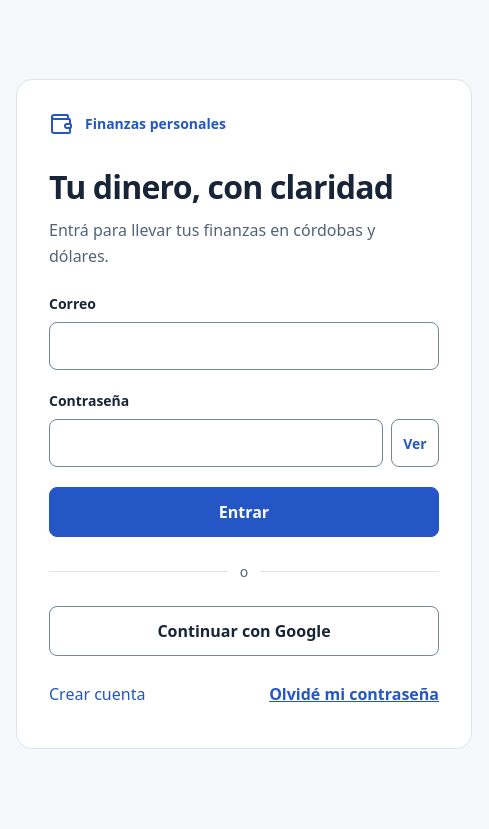
Test: explains a cancelled Google sign-in and keeps access available
Click the button "Continuar con Google": (244, 631) [49,606,439,656]
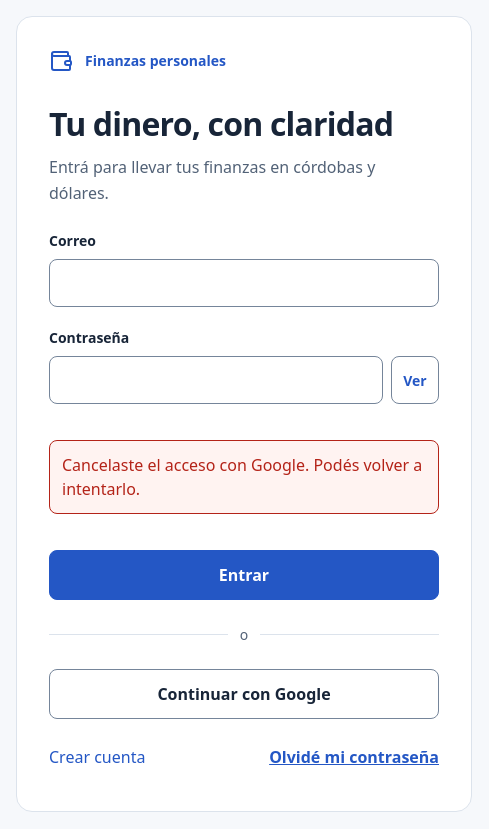
Expected: the button "Entrar" is enabled, [49,550,439,600]
Expected: the message shows "Cancelaste", [62,454,422,500]
